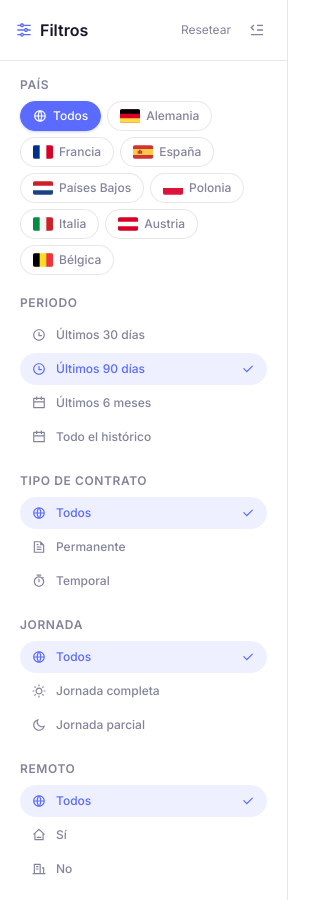
Scenario: DesktopFilterSidebar › colapso › al colapsar, oculta las secciones de filtro
Click the button named "colapsar filtros": {"x": 257, "y": 30} [243,16,271,44]
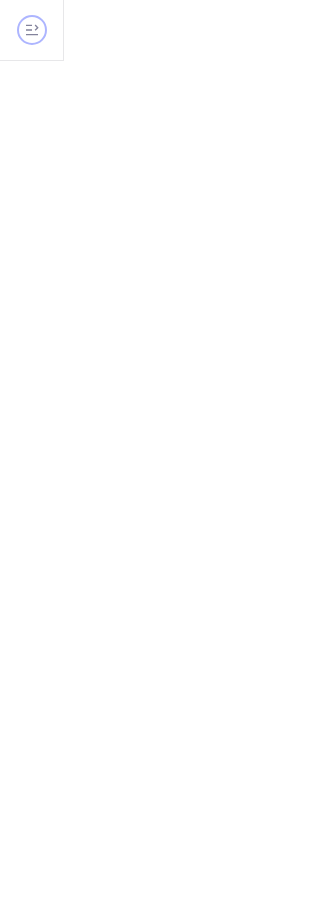
Expected: the text "País" is gone
